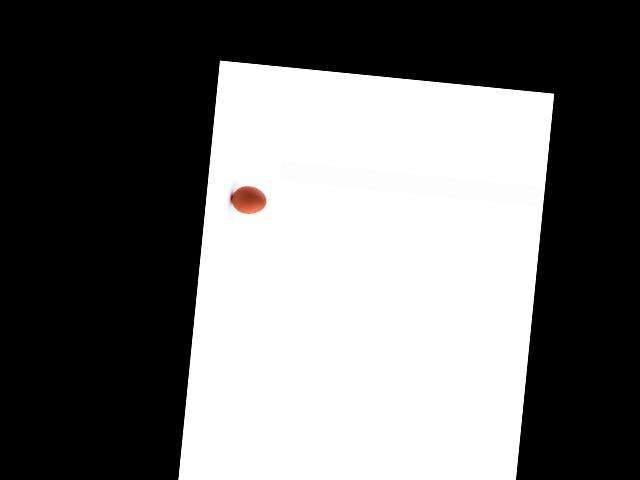egg: (230, 184, 267, 215)
